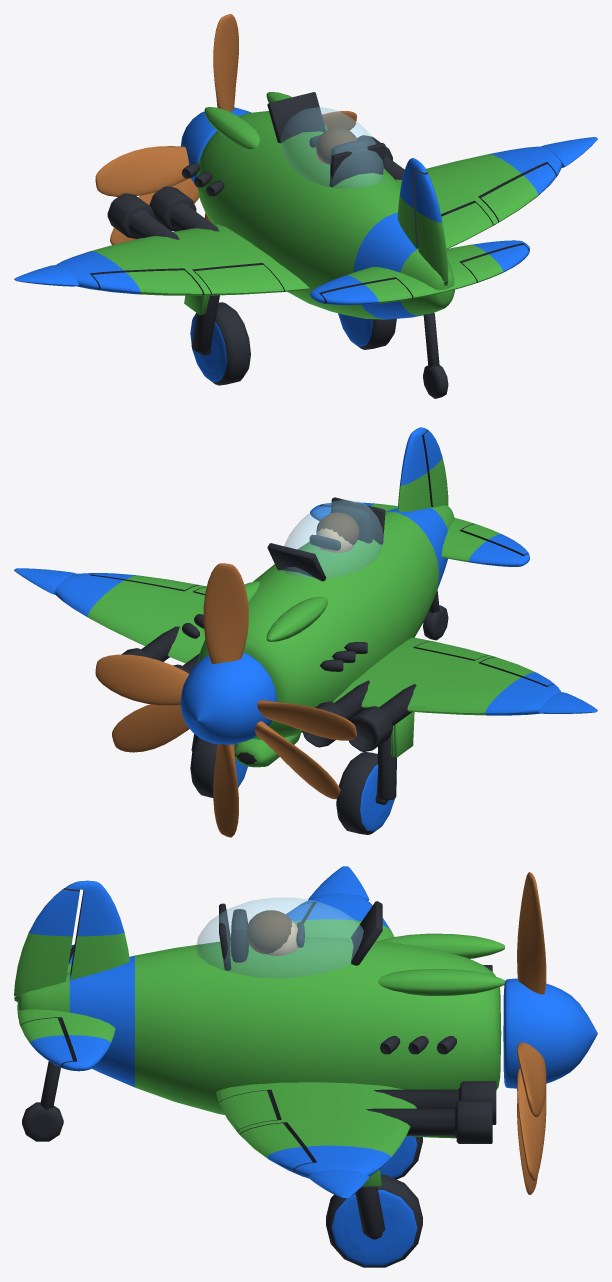
File: spitfire_stylized.glb
3 renders of one model, top to bottom at view 1: azimuth 30°, elevation 25°; view 2: azimuth 150°, elevation 25°; view 3: azimuth 270°, elevation 25°, orthographic. The views are drawn at different scales.
Visible parts, largest first — view 1: Fuselage, Tail, CanopyMesh, WingL, GearL_heavy, PropellerMesh4, PropellerMesh, WingTipR, WingTipL, Engine, Rudder, AileronL (+18 smaller); view 2: PropellerMesh, Fuselage, Engine, PropellerMesh4, CanopyMesh, WingTipR, WingL, GearL_heavy, WingTipL, Tail, WingR, StabiliserL (+18 smaller); view 3: Fuselage, Tail, Engine, PropellerMesh, CanopyMesh, GearR_heavy, WingR, WingTipR, EngineBulges, Rudder, Fin, GunR2_20 (+14 smaller).
Part boxes in pixels (x1=…): Fuselage: x1=221, y1=127, x2=400, y2=317; Tail: x1=322, y1=189, x2=461, y2=319; CanopyMesh: x1=280, y1=107, x2=384, y2=188; WingL: x1=138, y1=224, x2=309, y2=295; GearL_heavy: x1=184, y1=295, x2=250, y2=385; PropellerMesh4: x1=95, y1=111, x2=356, y2=222; PropellerMesh: x1=110, y1=14, x2=250, y2=245; WingTipR: x1=426, y1=146, x2=561, y2=224; WingTipL: x1=56, y1=239, x2=207, y2=295; Engine: x1=182, y1=111, x2=273, y2=225; Rudder: x1=415, y1=170, x2=448, y2=281; AileronL: x1=92, y1=270, x2=202, y2=295; PropellerMesh: x1=112, y1=563, x2=340, y2=799; Fuselage: x1=253, y1=504, x2=427, y2=686; Engine: x1=182, y1=582, x2=367, y2=739; PropellerMesh4: x1=95, y1=654, x2=356, y2=837; CanopyMesh: x1=283, y1=500, x2=384, y2=577; WingTipR: x1=55, y1=573, x2=203, y2=641; WingL: x1=333, y1=637, x2=493, y2=712; GearL_heavy: x1=336, y1=712, x2=414, y2=834; WingTipL: x1=424, y1=656, x2=561, y2=715; Tail: x1=384, y1=505, x2=458, y2=625; WingR: x1=135, y1=586, x2=206, y2=663; StabiliserL: x1=441, y1=519, x2=529, y2=566; Fuselage: x1=184, y1=909, x2=392, y2=1114; Tail: x1=17, y1=946, x2=183, y2=1104; Engine: x1=380, y1=942, x2=501, y2=1089; PropellerMesh: x1=503, y1=872, x2=597, y2=1180; CanopyMesh: x1=195, y1=898, x2=370, y2=978; GearR_heavy: x1=326, y1=1169, x2=422, y2=1267; WingR: x1=216, y1=1082, x2=416, y2=1132; WingTipR: x1=238, y1=1119, x2=407, y2=1178; EngineBulges: x1=378, y1=933, x2=504, y2=995; Rudder: x1=14, y1=887, x2=79, y2=997; Fin: x1=14, y1=880, x2=129, y2=1001; GunR2_20: x1=366, y1=1100, x2=492, y2=1143.
Bounding box in the file's own units: 8.28 × 4.05 × 6.16.
